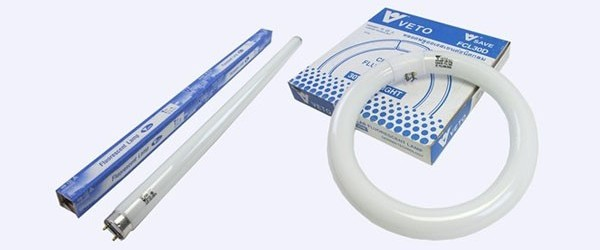Light_bulb: (97, 31, 309, 244), (324, 43, 543, 246)
